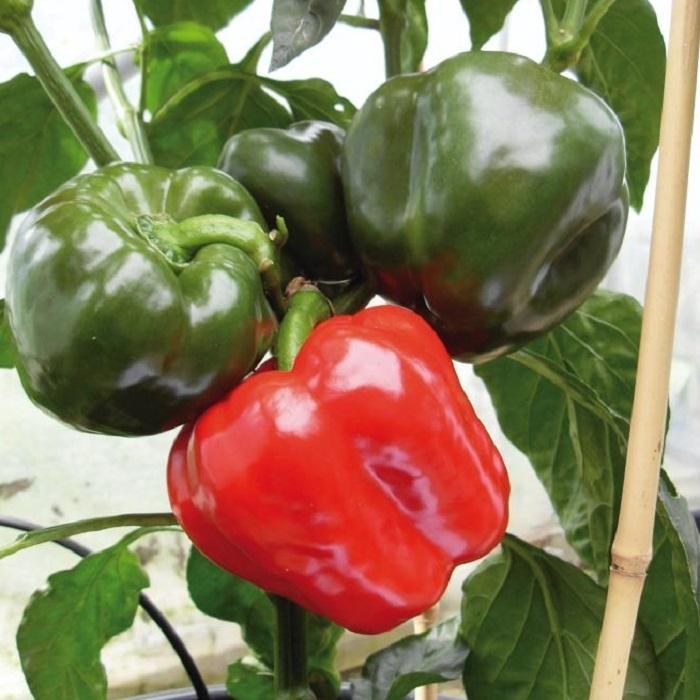fruit: (166, 304, 510, 637), (342, 48, 631, 367), (6, 162, 278, 439), (215, 119, 348, 282)
pedicle: (138, 216, 202, 270)
